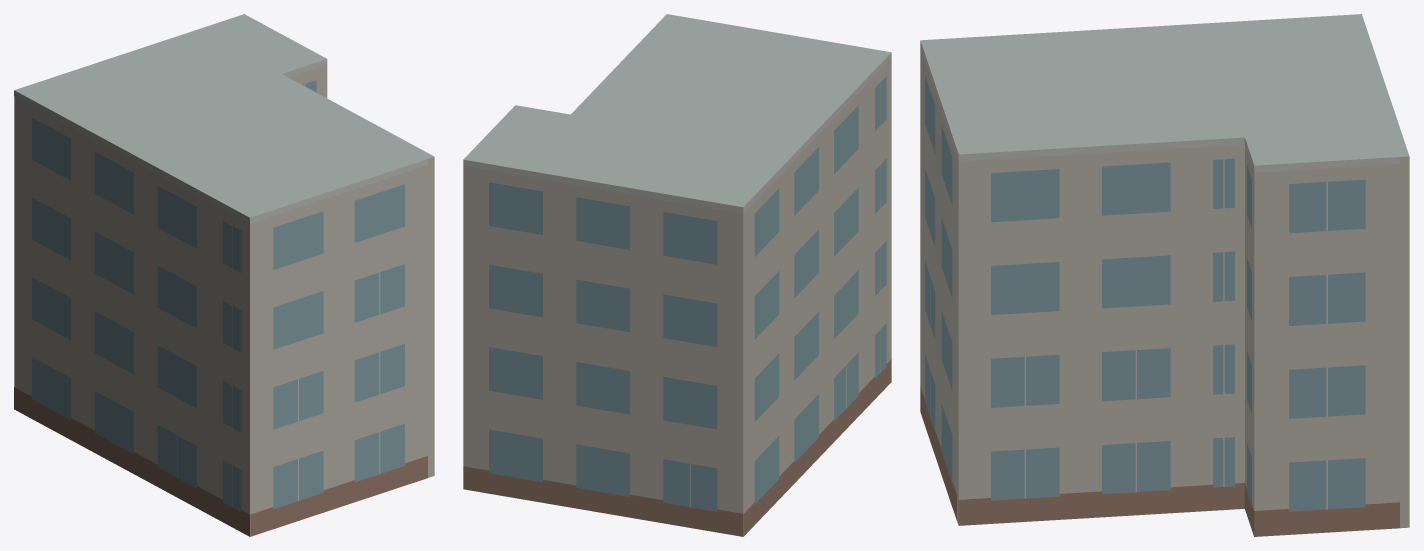
File: survey-upis-32996948.glb
3 views of the same model, side by side, from view 1: azimuth 30°, elevation 25°; view 2: azimuth 150°, elevation 25°; view 3: azimuth 270°, elevation 25° (orthographic). The views are drawn at different scales.
Parts seen in each view (by area): view 1: survey-upis-32996948.tmp; view 2: survey-upis-32996948.tmp; view 3: survey-upis-32996948.tmp.
Part boxes in pixels (left/top/right/bottom): survey-upis-32996948.tmp: left=14, top=14, right=434, bottom=536; survey-upis-32996948.tmp: left=463, top=14, right=891, bottom=536; survey-upis-32996948.tmp: left=920, top=14, right=1409, bottom=536.
Bounding box in the file's own units: 11.22 × 12.8 × 15.3.
